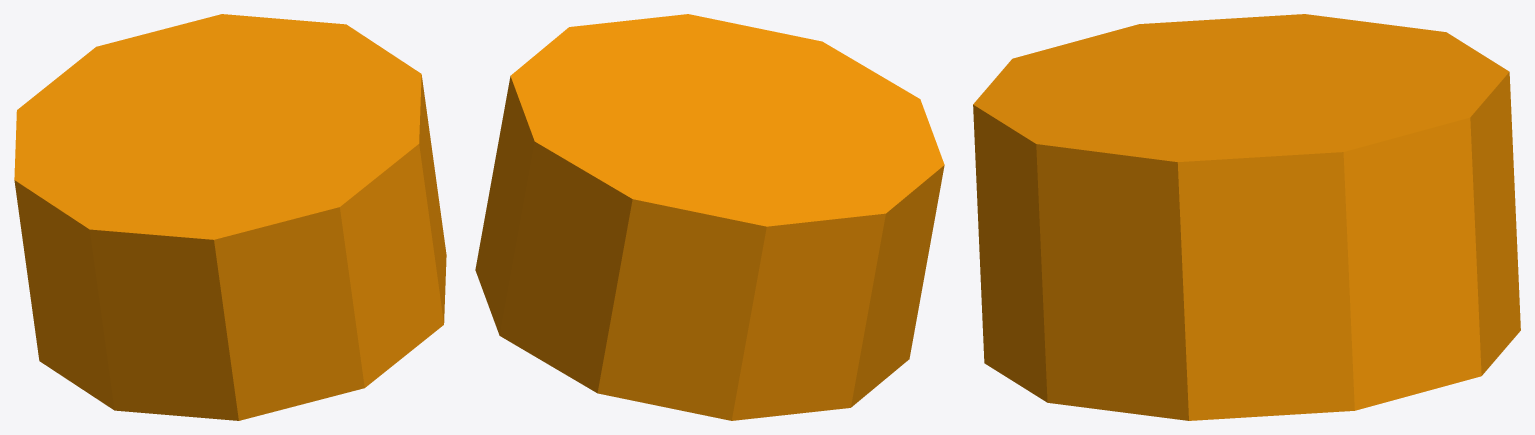
Rendered from group686855367_lev3.001.glb.
The picture shows the model from 3 angles, left to right: view 1: azimuth 30°, elevation 25°; view 2: azimuth 150°, elevation 25°; view 3: azimuth 270°, elevation 25°; orthographic projection. The views are drawn at different scales.
Parts seen in each view (by area): view 1: group686855367_lev3.001; view 2: group686855367_lev3.001; view 3: group686855367_lev3.001.
Part boxes in pixels (x1,y1,x2,y2): group686855367_lev3.001: (14, 14, 446, 420); group686855367_lev3.001: (475, 14, 944, 420); group686855367_lev3.001: (973, 14, 1520, 420).
Size of the model in its own units: 0.5716 by 0.3604 by 0.5589.
